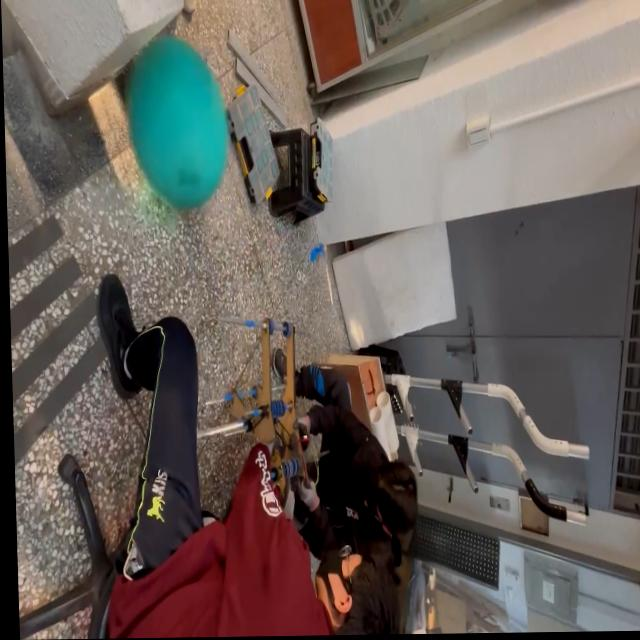ALGAE: (122, 33, 231, 212)
